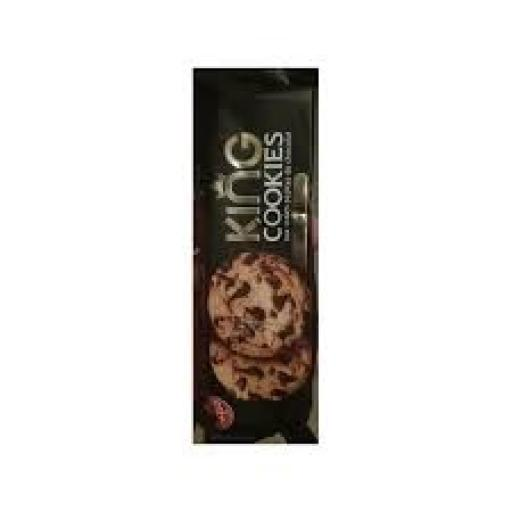king-cooking: (154, 24, 382, 466)
